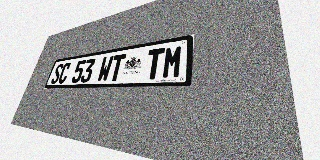3: (80, 58, 96, 83)
5: (71, 60, 86, 83)
C: (57, 62, 72, 84)
M: (161, 45, 184, 79)
S: (50, 63, 64, 84)
T: (144, 47, 165, 80), (108, 54, 126, 81)
W: (96, 55, 114, 82)
